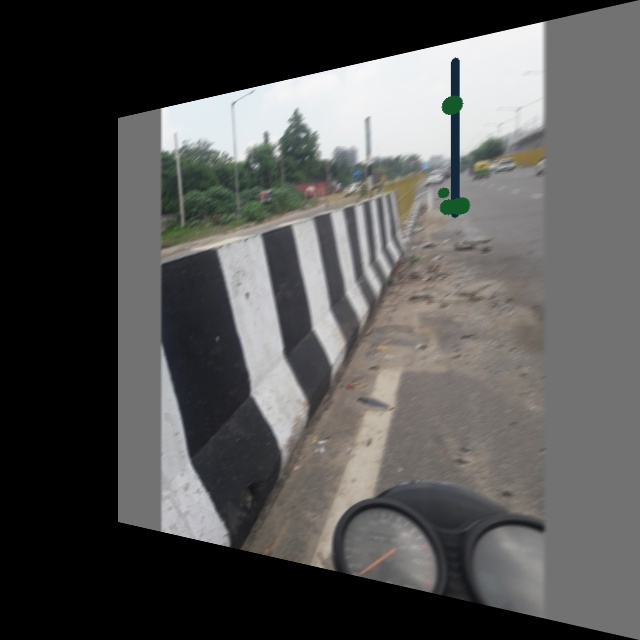Pass_Either_Side: (350, 166, 359, 176)
